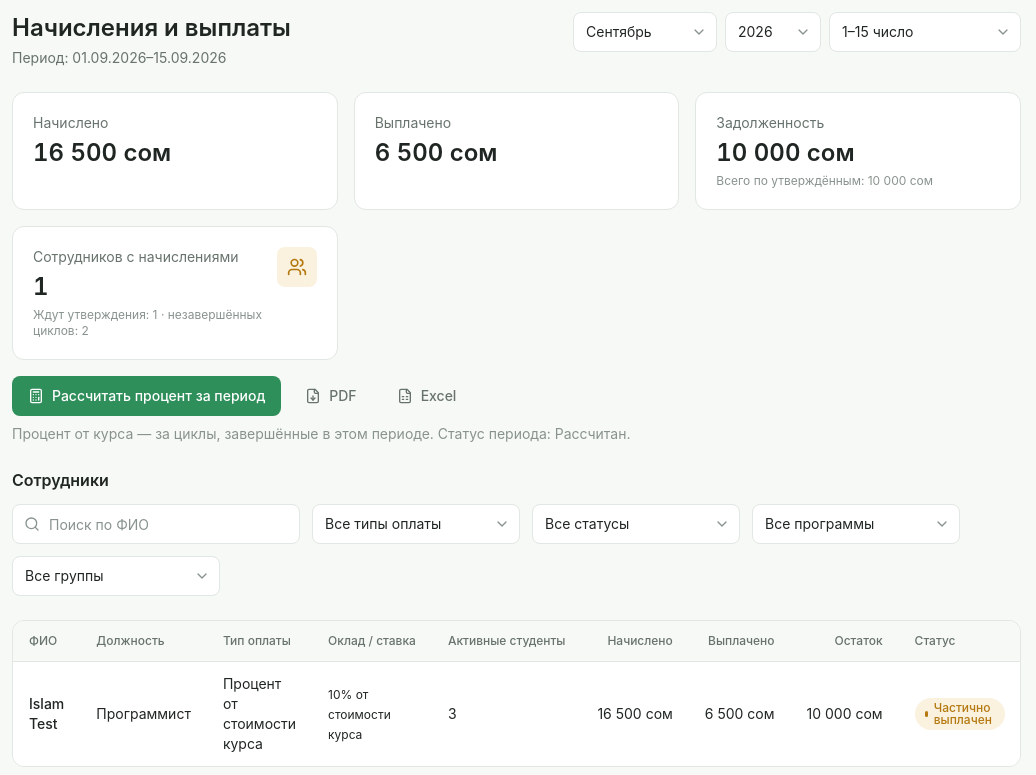
AccountingDashboardPage › shows totals, employees and runs the mass calculation with its errors
The image size is (1036, 775).
Expected: the text "Islam Test" is shown, x1=29 y1=695 x2=64 y2=732
Expected: the text "16 500 сом" is shown, x1=33 y1=137 x2=171 y2=169
Click the button "Рассчитать процент за период". click: [147, 396]
box: x1=12 y1=376 x2=281 y2=416
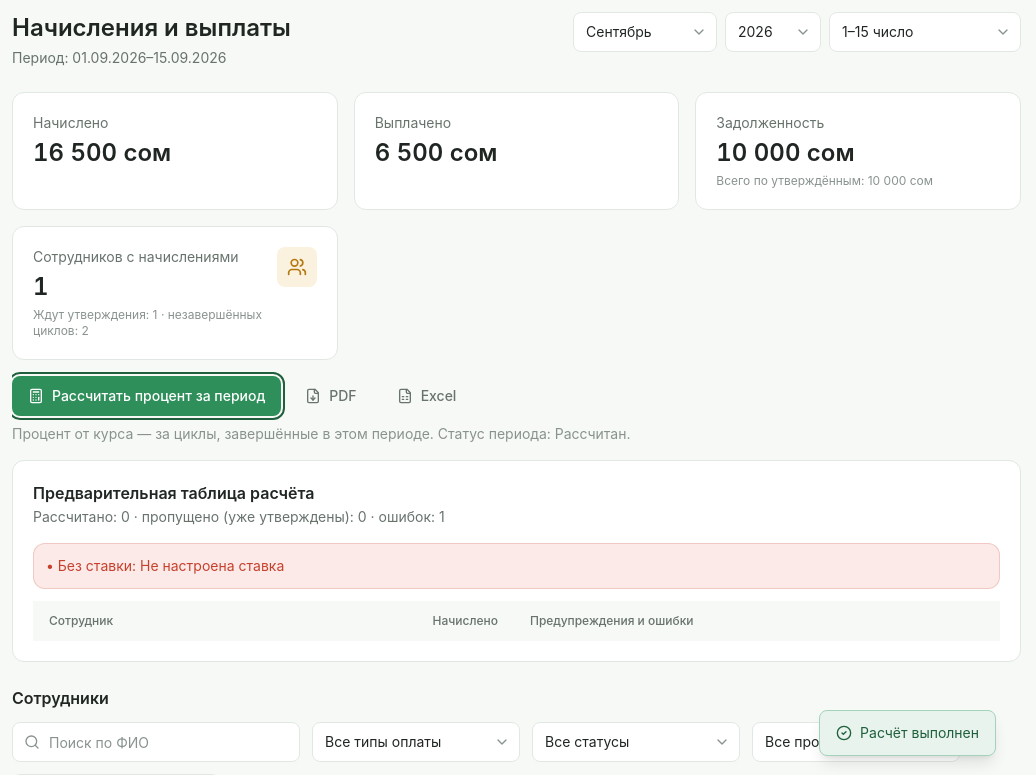
Result: the list item "• Без ставки: Не настроена ставка" is shown at x1=46 y1=557 x2=284 y2=574
